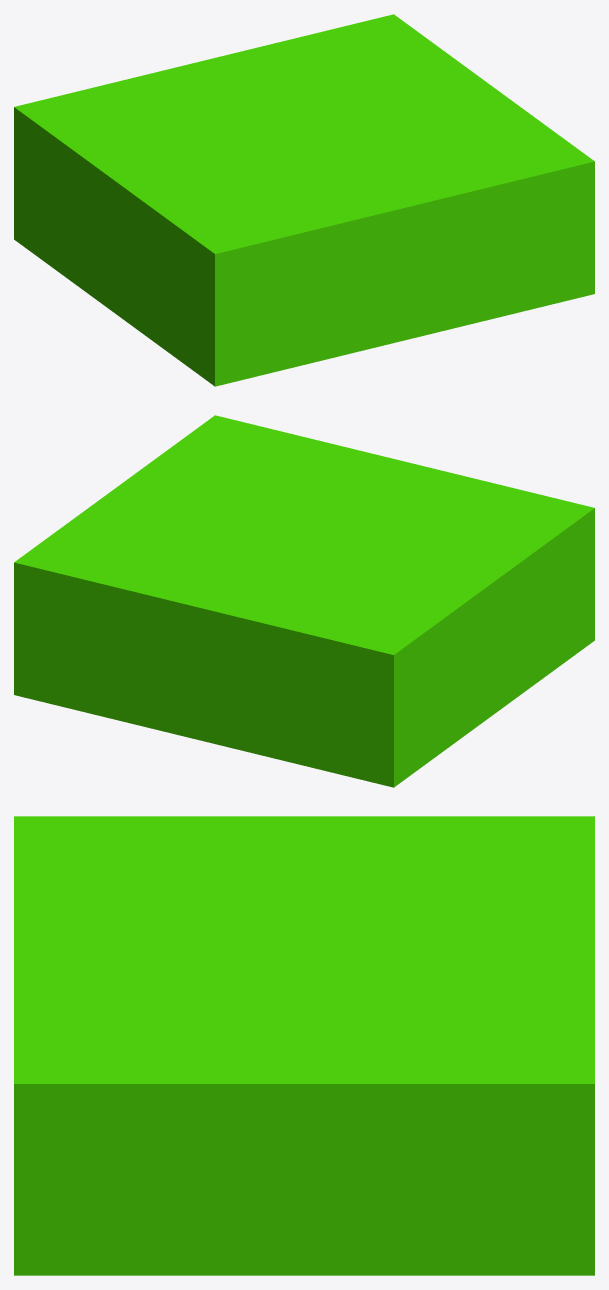
The model's file is Playergym49.fbx.
3 views of the same model, one above another, from view 1: azimuth 30°, elevation 25°; view 2: azimuth 150°, elevation 25°; view 3: azimuth 270°, elevation 25° (orthographic). The views are drawn at different scales.
Parts seen in each view (by area): view 1: Cube.048; view 2: Cube.048; view 3: Cube.048.
Part boxes in pixels (box(x1,y1,x2,y2)): Cube.048: box(14, 14, 594, 386); Cube.048: box(14, 415, 594, 787); Cube.048: box(14, 816, 594, 1275).
Size of the model in its own units: 300 by 100 by 275.
